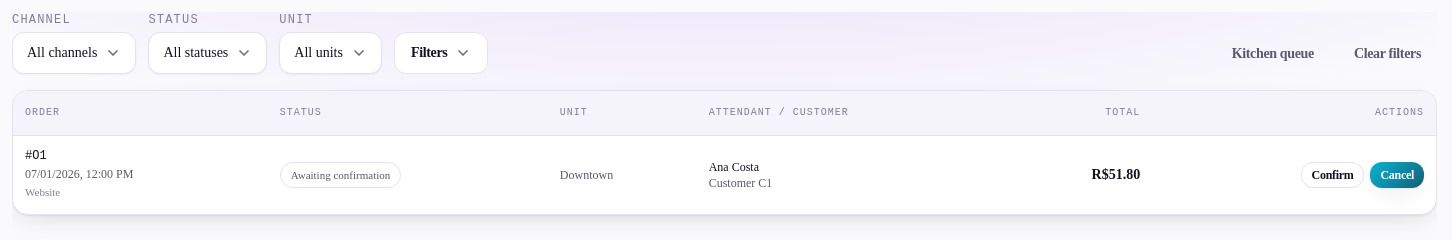
Test case: OrderBoard › cancels an order
Click the button "Cancel".
click(1397, 175)  # box top-left (1370, 162), bottom-right (1424, 188)
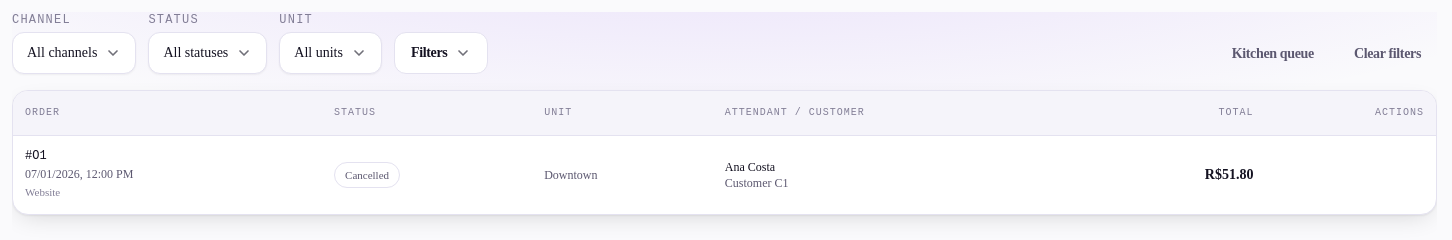
Check: the text "Cancelled" is shown, box top-left (334, 162), bottom-right (400, 188)
